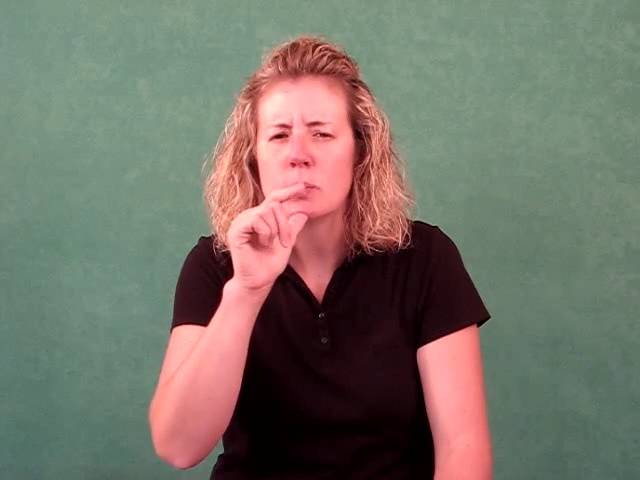who: (217, 181, 317, 307)
